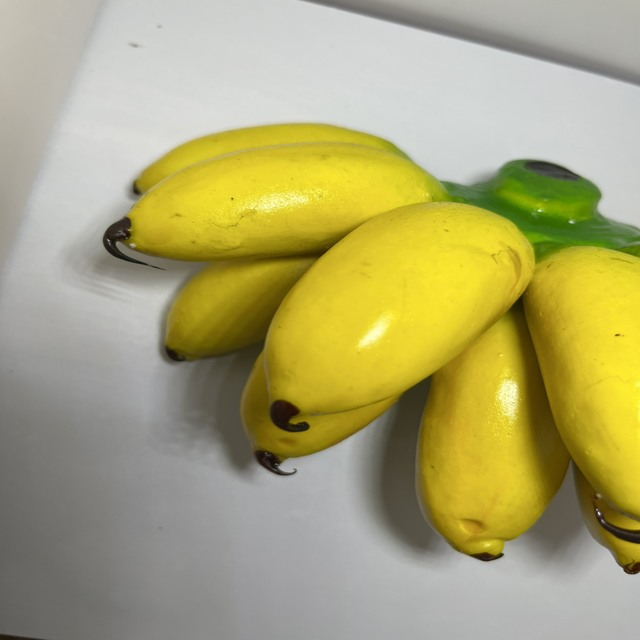Chuoi: (97, 119, 640, 582)
